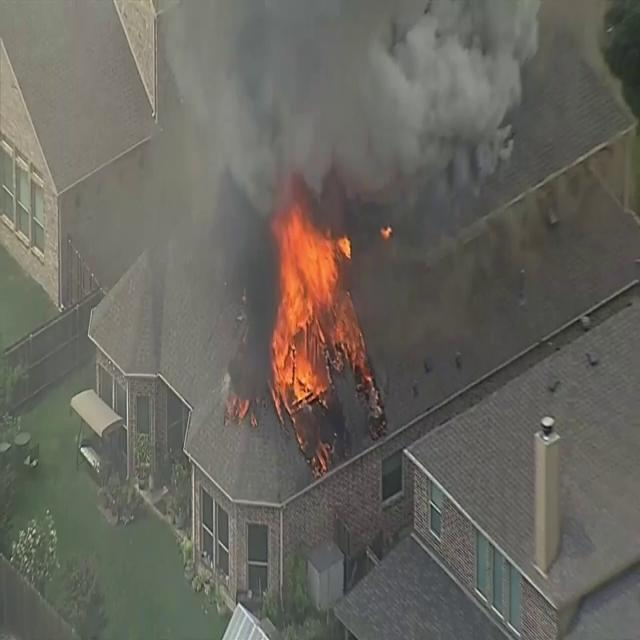Fire: (264, 198, 370, 412)
Smoke: (360, 0, 638, 406), (117, 3, 276, 420)
